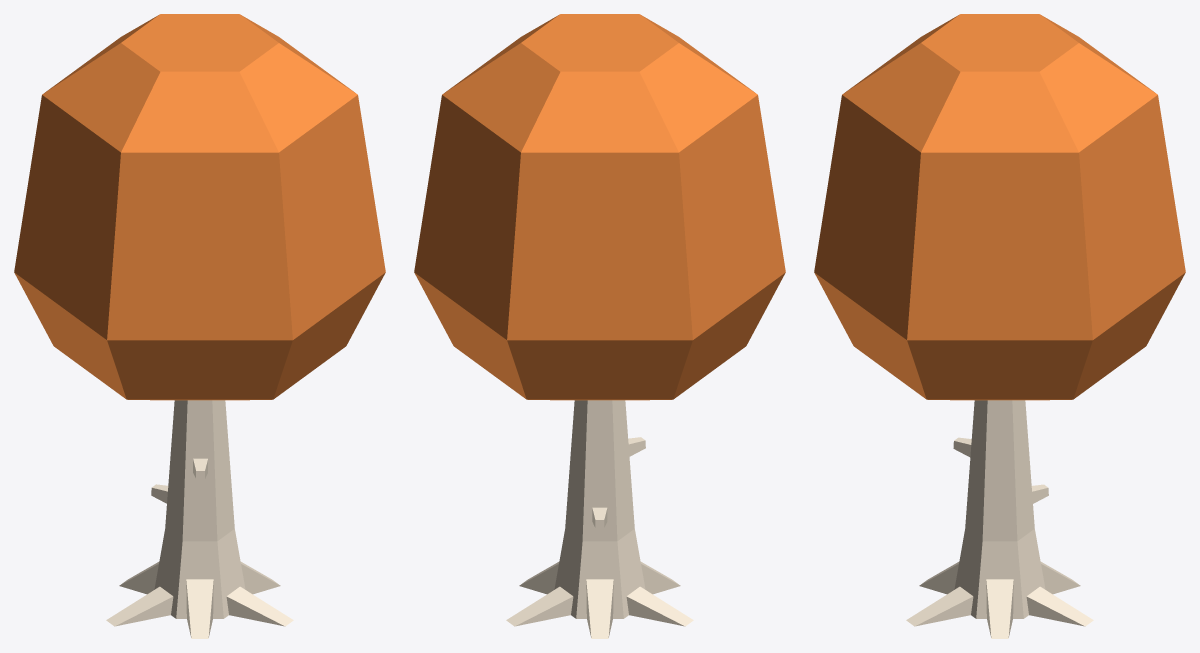
Rendered from tree_oak_fall.dae.
3 renders of one model, left to right at view 1: azimuth 30°, elevation 25°; view 2: azimuth 150°, elevation 25°; view 3: azimuth 270°, elevation 25°, orthographic.
Parts seen in each view (by area): view 1: tree_oak_fall; view 2: tree_oak_fall; view 3: tree_oak_fall.
Part boxes in pixels (x1,y1,x2,y2): tree_oak_fall: [14, 14, 385, 638]; tree_oak_fall: [414, 14, 785, 638]; tree_oak_fall: [814, 14, 1185, 638].
Bounding box in the file's own units: 0.6406 × 1.23 × 0.7396.
